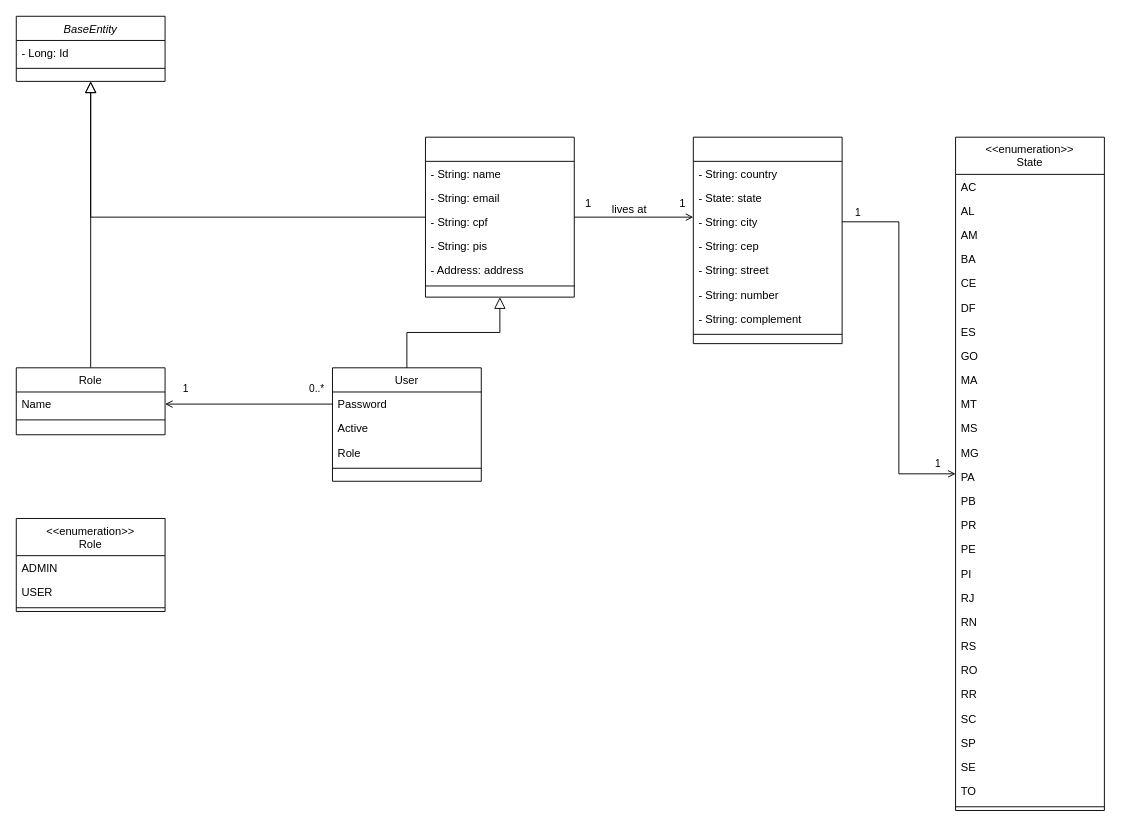
This 1121x827 diagram has some shape labels left out. The box of each missing label's shape, as (x1, y1, x2, y2) in pixels:
Address: (692, 136, 842, 344)
Person: (425, 136, 574, 297)
